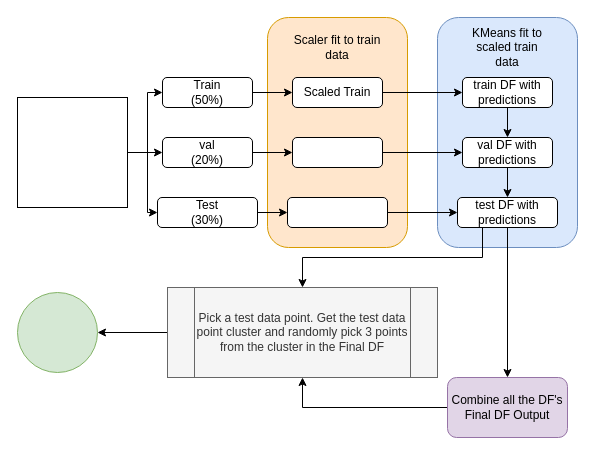
The diagram is 595 pixels wide and 455 high, and some of its shapes have lost their labels. Here are the shapes that lost their labels. From the top down, the centre of each, then its label:
At (72,152): "Dataset".
At (337,152): "Scaled val".
At (337,212): "Scaled Test".
At (57,332): "Output 3 products per PO".
